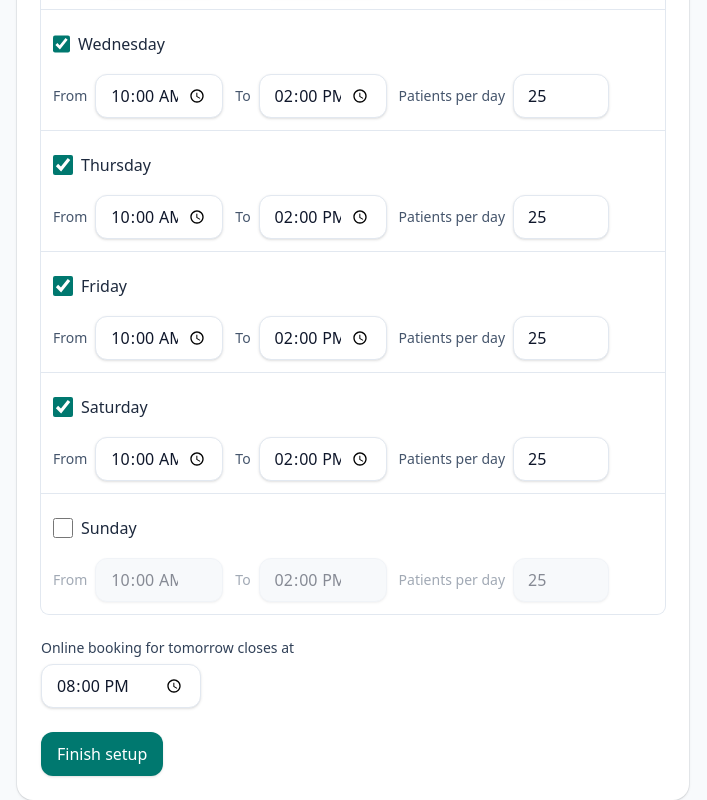
Test: single-doctor setup screen › explains what is missing instead of posting an incomplete form
(page scrolled)
Step 1. Click the button "Finish setup" → (102, 754), box x1=41 y1=732 x2=163 y2=776
(page scrolled)
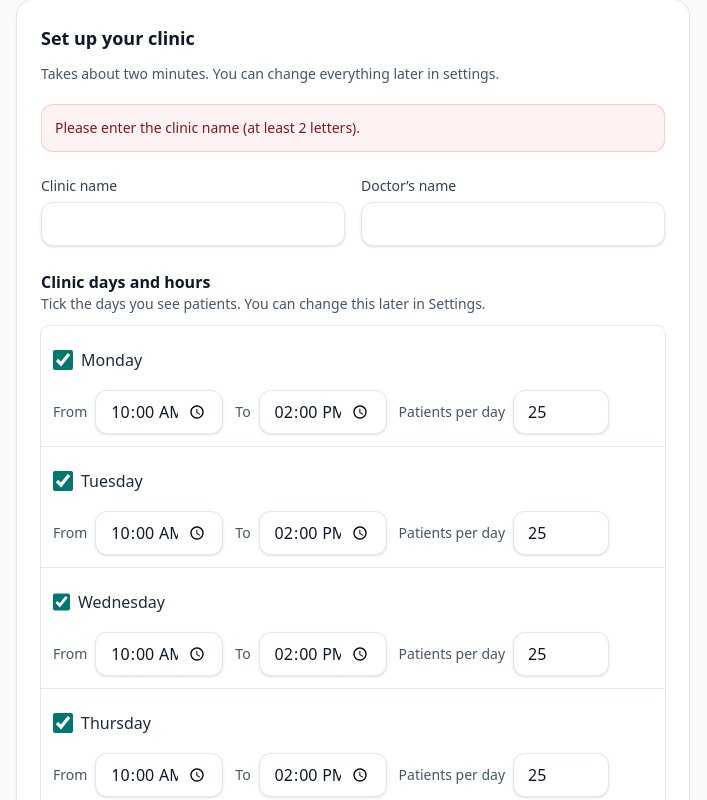
Expected: the text "Please enter the clinic name (at least 2 letters)." is shown, x1=55 y1=118 x2=360 y2=138
